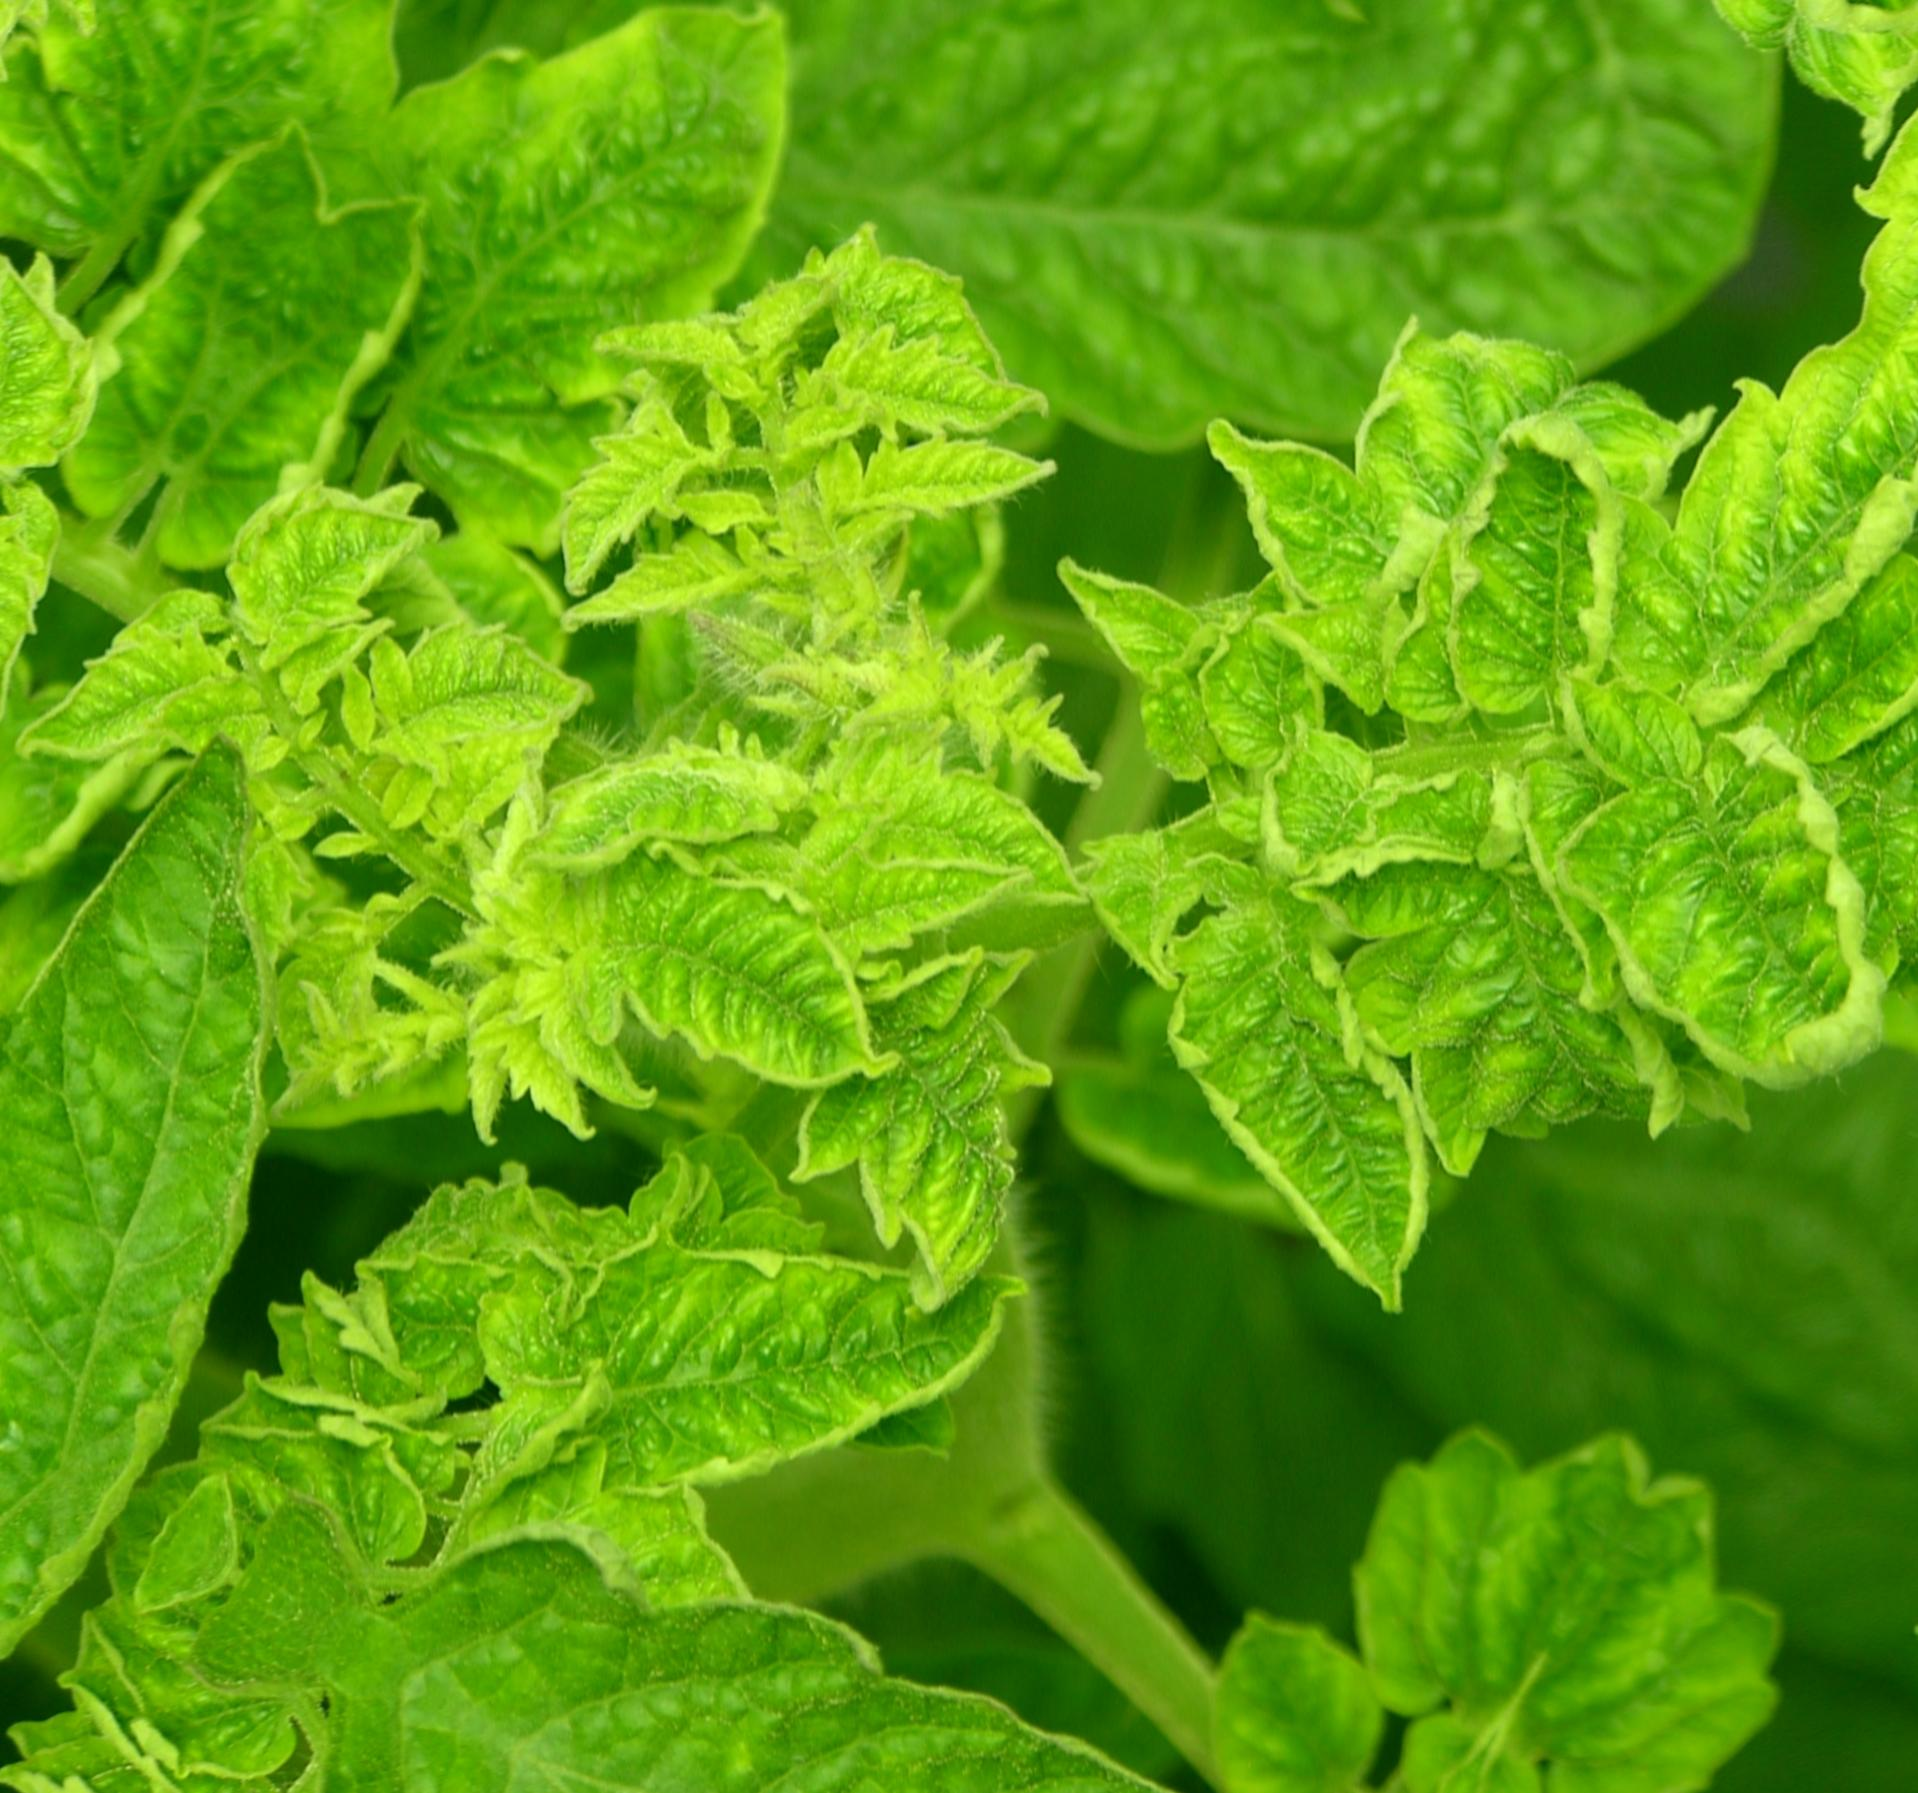Tomato leaf yellow virus: (194, 1195, 1439, 1793), (0, 573, 556, 1507), (251, 0, 890, 664), (428, 1026, 1080, 1670), (1011, 814, 1596, 1355), (1456, 642, 1918, 1195), (1305, 327, 1743, 831), (1534, 266, 1918, 795), (522, 779, 944, 1175), (728, 627, 1094, 999), (1736, 484, 1918, 971), (816, 351, 1067, 615), (806, 270, 1023, 480)
